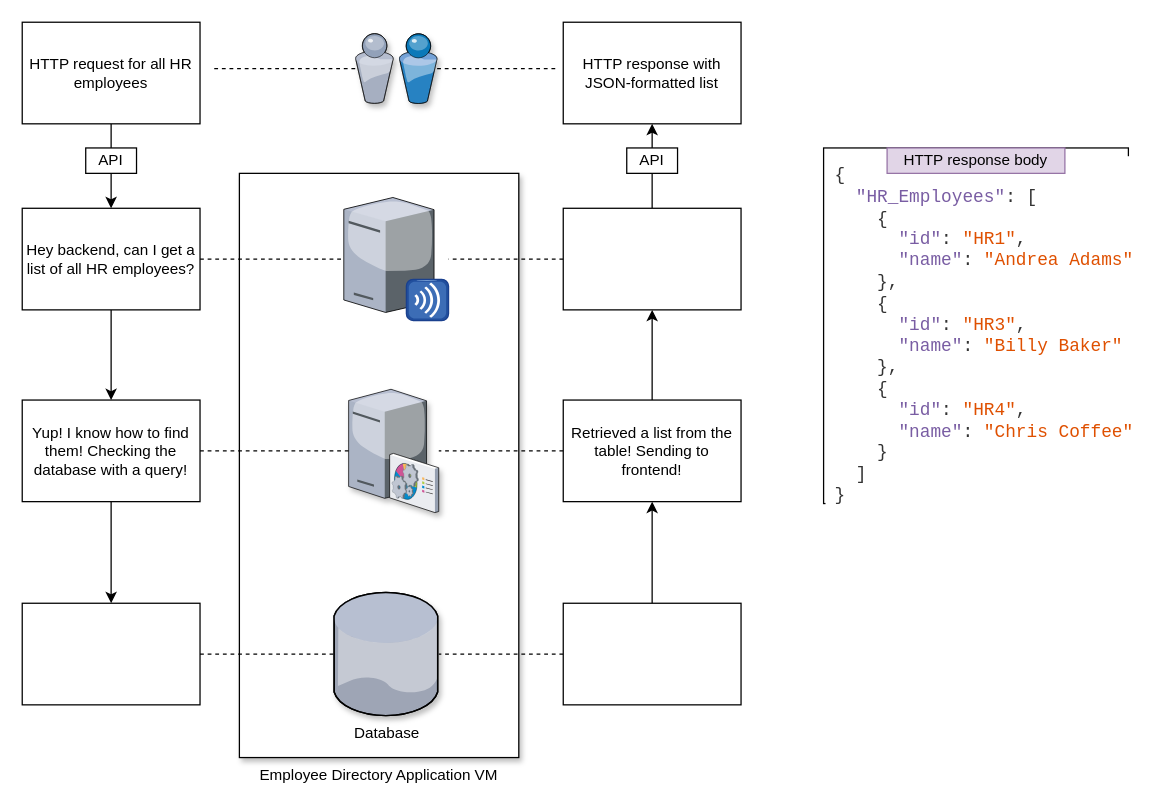
Image size: 1165x806. Some labels were removed from this diagram. Here are the shapes that lost their labels. From the top down, the centre of each, then its label:
At (x=395, y=258): "Front-End Server".
At (x=651, y=258): "Formatting request to send back to the user!".
At (x=394, y=452): "Back-end Server".
At (x=110, y=653): "Processes backend query".
At (x=651, y=653): "Sending results to backend".
